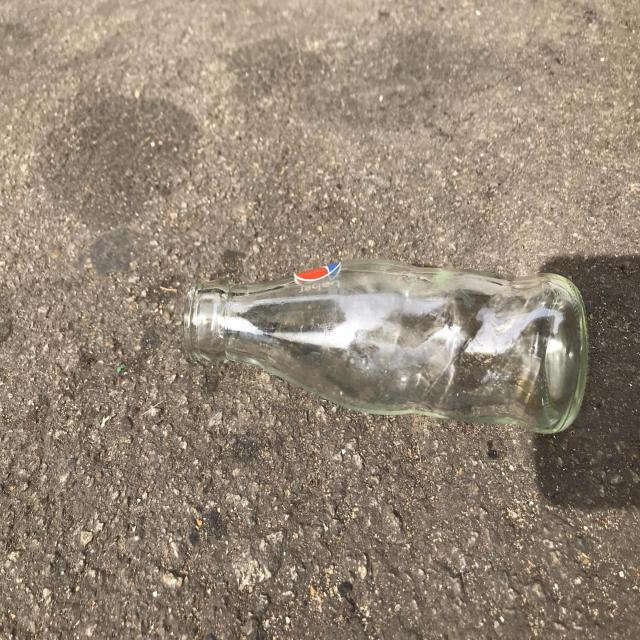glass: (184, 260, 589, 434)
